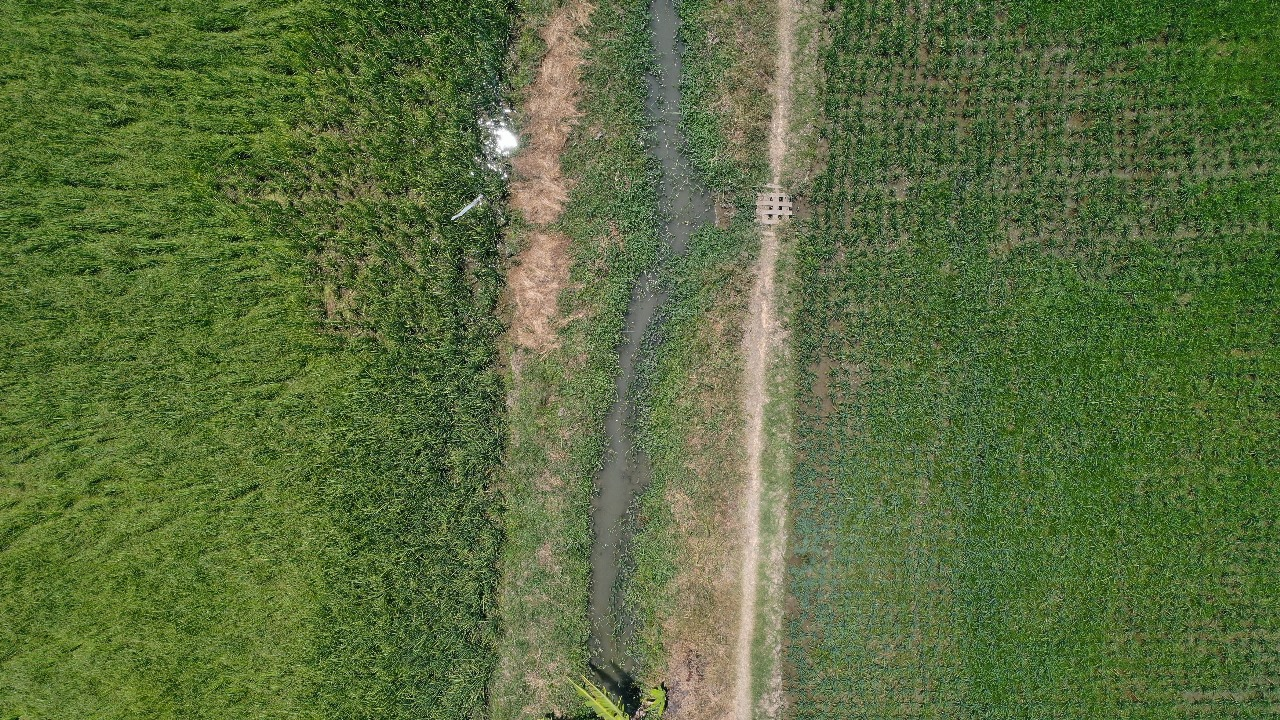irigation: (551, 1, 734, 710)
